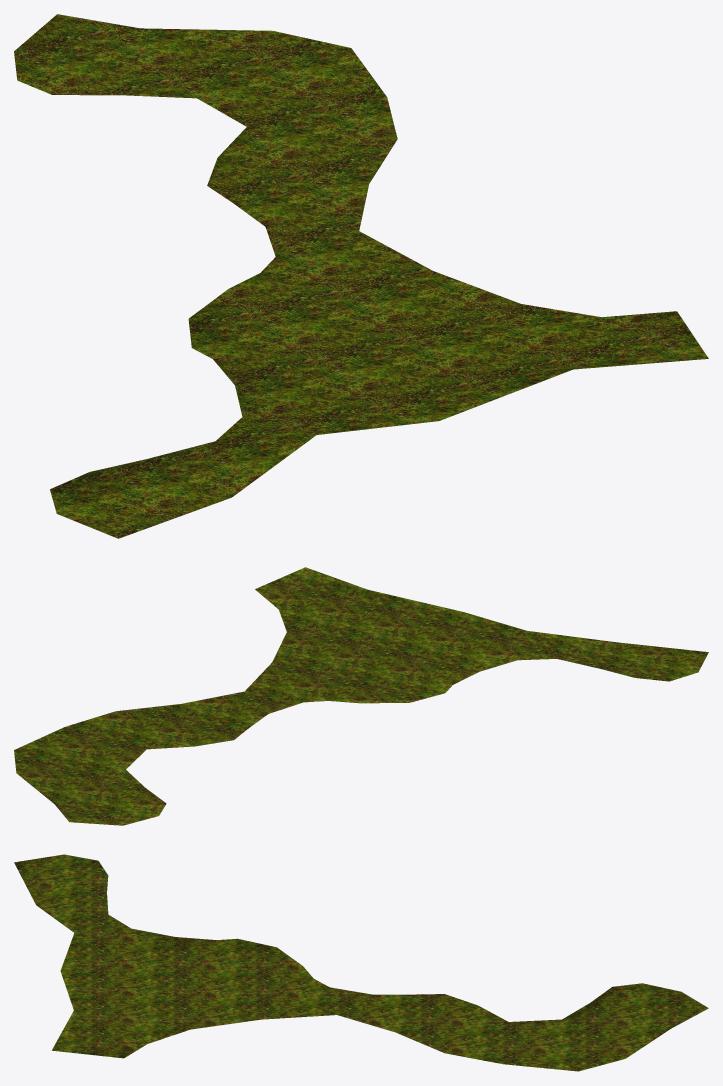
Rendered from TROLLHOLE02_RM_PSURF196.fbx.
3 renders of one model, top to bottom at view 1: azimuth 30°, elevation 25°; view 2: azimuth 150°, elevation 25°; view 3: azimuth 270°, elevation 25°, orthographic. The views are drawn at different scales.
Visible parts, largest first — view 1: TROLLHOLE02_RM_PSURF196; view 2: TROLLHOLE02_RM_PSURF196; view 3: TROLLHOLE02_RM_PSURF196.
Boxes of the visible parts, box(x1,y1,x2,y2) form: TROLLHOLE02_RM_PSURF196: box(14, 14, 708, 538); TROLLHOLE02_RM_PSURF196: box(14, 567, 708, 825); TROLLHOLE02_RM_PSURF196: box(14, 854, 708, 1071).
Bounding box in the file's own units: 370241 × 8020 × 500965.
Materials: 1 (1 with a texture image).
